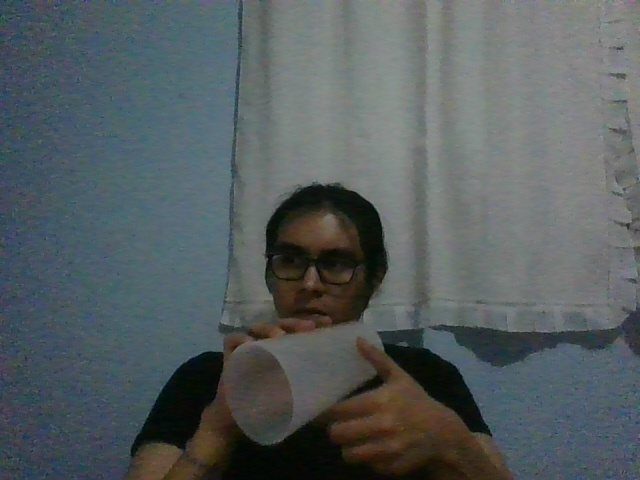vaso: (223, 321, 384, 446)
